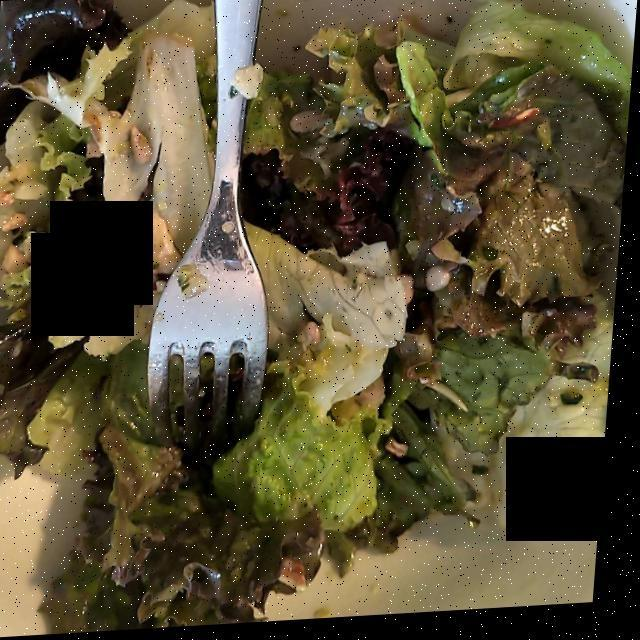salad: (0, 6, 630, 633)
seeds: (0, 133, 463, 305)
